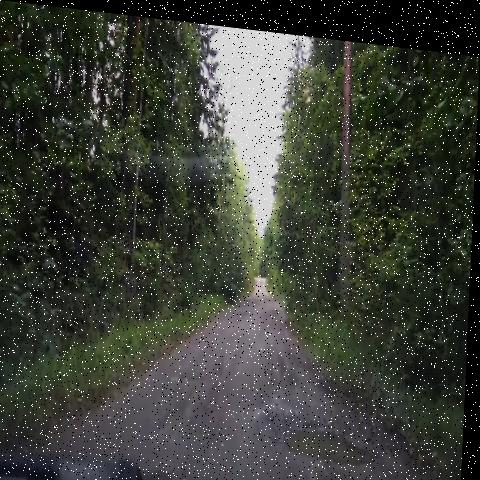pothole: (270, 397, 391, 471), (164, 356, 214, 396), (237, 302, 263, 321)
